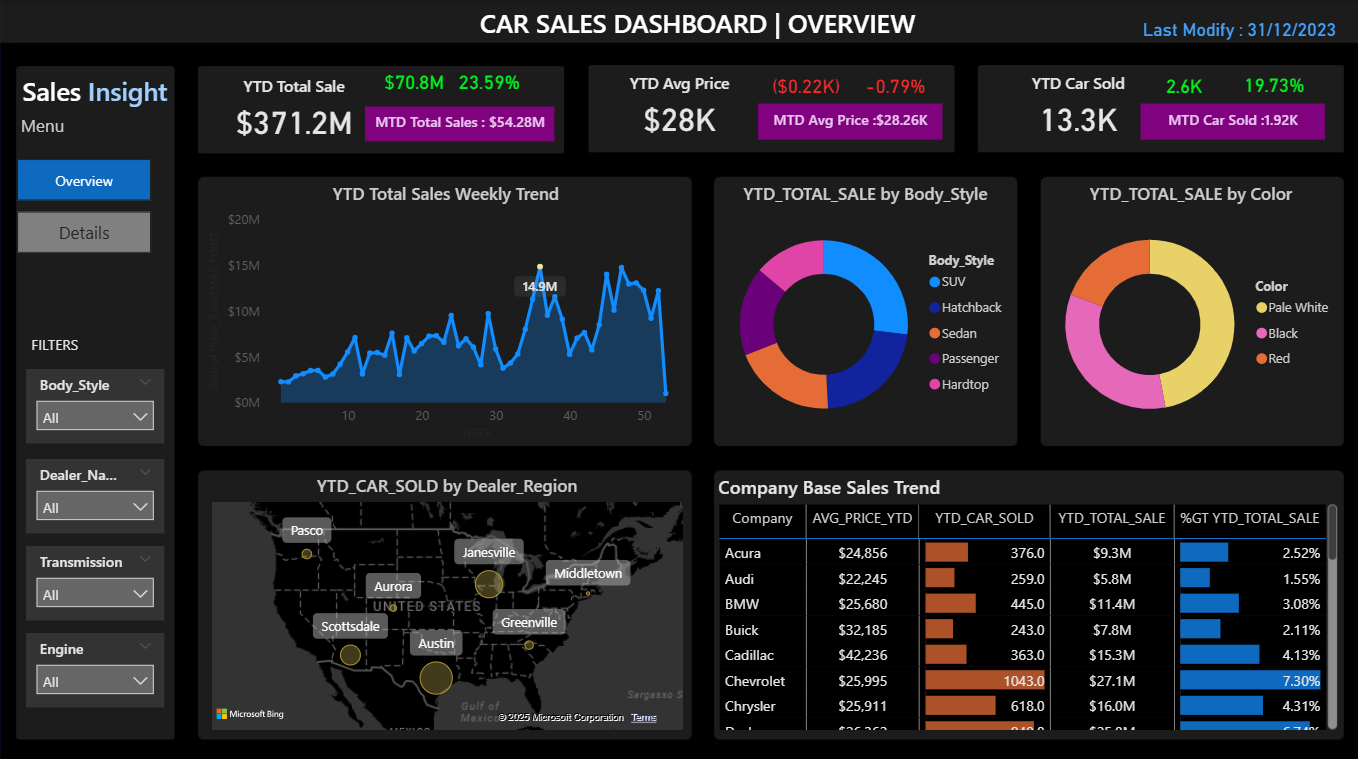

What the dashboard file says about the page in this screenshot:
{"tool":"powerbi","page":{"name":"Overview","canvas":[1280,720],"ordinal":0},"visuals":[{"type":"card","title":"YTD Total Sale","fields":{"Values":["car_data.YTD_TOTAL_SALE"]},"box":[195.4,70.3,162.6,65.6],"z":0},{"type":"card","title":"YTD Total Sale","fields":{"Values":["car_data.SALES_DIFFRENCE"]},"box":[345.4,56.3,89.1,42.2],"z":1000},{"type":"card","title":"YTD Total Sale","fields":{"Values":["car_data.YOY SALES DIFF %"]},"box":[415.8,56.3,89.1,42.2],"z":2000},{"type":"card","title":"YTD Total Sale","fields":{"Values":["car_data.MTD KPI"]},"box":[343.9,100,178.2,32.8],"z":3000},{"type":"card","title":"YTD Avg Price","fields":{"Values":["car_data.AVG_PRICE_YTD"]},"box":[558,67.2,162.6,65.6],"z":4000},{"type":"card","title":"YTD Total Sale","fields":{"Values":["car_data.AVG_PRICE_DIFF"]},"box":[712.8,61,89.9,41.7],"z":5000},{"type":"card","title":"YTD Total Sale","fields":{"Values":["car_data.YOY_AVG_PRICE_GROWTH"]},"box":[797.9,61,88.3,41.7],"z":6000},{"type":"card","title":"YTD Total Sale","fields":{"Values":["car_data.MTD_TOTAL_SALE_FORMAT"]},"box":[712.8,97.9,173.4,33.7],"z":7000},{"type":"card","title":"YTD Car Sold","fields":{"Values":["car_data.YTD_CAR_SOLD"]},"box":[932.7,67.4,162.1,65.8],"z":8000},{"type":"card","title":"YTD Total Sale","fields":{"Values":["car_data.CAR SOLD DIFFRENCE"]},"box":[1069.2,59.4,89.9,43.3],"z":9000},{"type":"card","title":"YTD Total Sale","fields":{"Values":["car_data.CAR SOLD GROWTH %"]},"box":[1159.1,59.4,78.7,41.7],"z":10000},{"type":"card","title":"YTD Total Sale","fields":{"Values":["car_data.MTD_CAR_SOLD_FORMAT"]},"box":[1072.4,97.9,173.4,33.7],"z":11000},{"type":"areaChart","title":"YTD Total Sales Weekly Trend","fields":{"Category":["Calander_table.WEEK"],"Y":["Sum(car_data.Price_$ )","car_data.MAX POINT"]},"box":[191.7,170,456.7,246.7],"z":12000},{"type":"donutChart","fields":{"Y":["car_data.YTD_TOTAL_SALE"],"Category":["car_data.Body_Style"]},"box":[671.7,170,286.7,246.7],"z":13000},{"type":"donutChart","fields":{"Y":["car_data.YTD_TOTAL_SALE"],"Category":["car_data.Color"]},"box":[976.7,170,286.7,246.7],"z":14000},{"type":"map","fields":{"Category":["car_data.Dealer_Region"],"Size":["car_data.YTD_CAR_SOLD"]},"box":[195,445,453.3,245],"z":15000},{"type":"tableEx","title":"Company Base Sales Trend","fields":{"Values":["car_data.Company","car_data.AVG_PRICE_YTD","car_data.YTD_CAR_SOLD","car_data.YTD_TOTAL_SALE1","car_data.YTD_TOTAL_SALE"]},"box":[671.7,445,591.7,245],"z":16000},{"type":"textbox","box":[446.7,0,448.3,51.7],"z":17000},{"type":"slicer","fields":{"Values":["car_data.Body_Style"]},"box":[25,346.7,130,70],"z":18000},{"type":"slicer","fields":{"Values":["car_data.Dealer_Name"]},"box":[25,431.7,130,70],"z":19000},{"type":"slicer","fields":{"Values":["car_data.Transmission"]},"box":[25,513.3,130,70],"z":20000},{"type":"slicer","fields":{"Values":["car_data.Engine"]},"box":[25,595,130,70],"z":21000},{"type":"textbox","box":[25,308.3,65,38.3],"z":22000},{"type":"pageNavigator","box":[16.7,150,126.7,88.3],"z":22001},{"type":"textbox","box":[15,101.7,65,38.3],"z":22002},{"type":"textbox","box":[16.7,63.3,155,51.7],"z":22003},{"type":"card","fields":{"Values":["car_data.MAX DATE FORMAT"]},"box":[1066.7,8.3,196.7,40],"z":22004}]}

Visuals, with their boxes in screenshot pixels (x1, y1, x2, y2), scaled from the page's 1280x720 canvas onto the 1358x759 screenshot:
"YTD Total Sale" card: box(207, 74, 380, 143)
"YTD Total Sale" card: box(366, 59, 461, 104)
"YTD Total Sale" card: box(441, 59, 536, 104)
"YTD Total Sale" card: box(365, 105, 554, 140)
"YTD Avg Price" card: box(592, 71, 765, 140)
"YTD Total Sale" card: box(756, 64, 852, 108)
"YTD Total Sale" card: box(847, 64, 940, 108)
"YTD Total Sale" card: box(756, 103, 940, 139)
"YTD Car Sold" card: box(990, 71, 1162, 140)
"YTD Total Sale" card: box(1134, 63, 1230, 108)
"YTD Total Sale" card: box(1230, 63, 1313, 107)
"YTD Total Sale" card: box(1138, 103, 1322, 139)
"YTD Total Sales Weekly Trend" areaChart: box(203, 179, 688, 439)
donutChart - car_data.YTD_TOTAL_SALE x car_data.Body_Style: box(713, 179, 1017, 439)
donutChart - car_data.YTD_TOTAL_SALE x car_data.Color: box(1036, 179, 1340, 439)
map - car_data.Dealer_Region x car_data.YTD_CAR_SOLD: box(207, 469, 688, 727)
"Company Base Sales Trend" tableEx: box(713, 469, 1340, 727)
textbox: box(474, 0, 950, 55)
slicer - car_data.Body_Style: box(27, 365, 164, 439)
slicer - car_data.Dealer_Name: box(27, 455, 164, 529)
slicer - car_data.Transmission: box(27, 541, 164, 615)
slicer - car_data.Engine: box(27, 627, 164, 701)
textbox: box(27, 325, 95, 365)
pageNavigator: box(18, 158, 152, 251)
textbox: box(16, 107, 85, 148)
textbox: box(18, 67, 182, 121)
card - car_data.MAX DATE FORMAT: box(1132, 9, 1340, 51)
